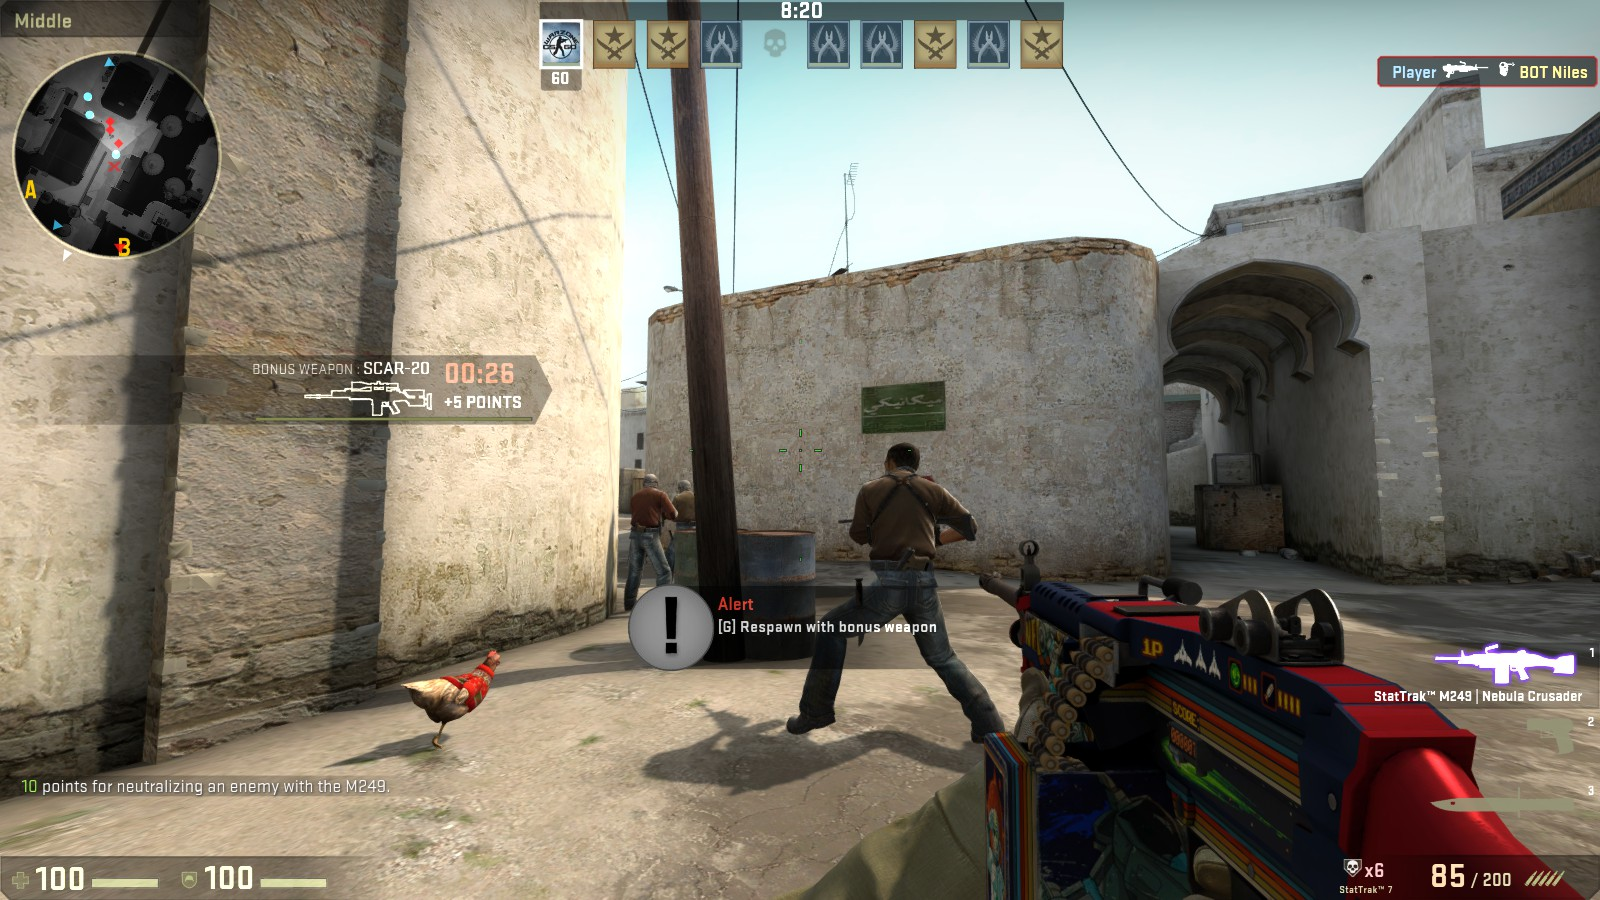t: (807, 438, 976, 741), (620, 474, 669, 618), (666, 476, 701, 536)
th: (877, 436, 925, 492), (635, 469, 660, 492), (677, 476, 695, 495)
